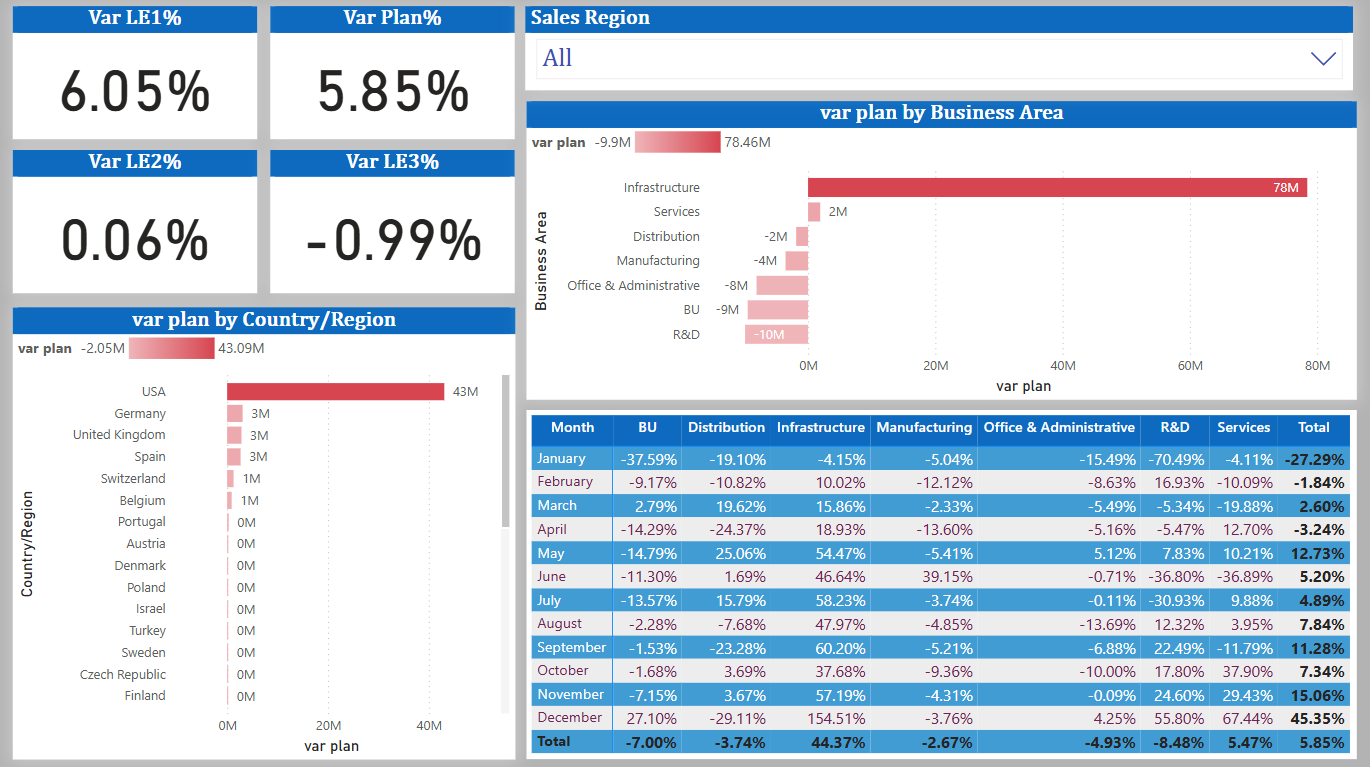

The page's visual inventory and layout, read from the dashboard file:
{"tool":"powerbi","page":{"name":"Variance Analysis","canvas":[1280,720],"ordinal":1},"visuals":[{"type":"card","title":"Var Plan%","fields":{"Values":["IT Area.var plan %"]},"box":[253.4,6,228,124.3],"z":0},{"type":"card","title":"Var LE1%","fields":{"Values":["IT Area.var LE 1 %"]},"box":[13.3,6,228,124.3],"z":1000},{"type":"card","title":"Var LE2%","fields":{"Values":["IT Area.var LE2 %"]},"box":[13.3,139.9,228,133.9],"z":2000},{"type":"card","title":"Var LE3%","fields":{"Values":["IT Area.var LE3 %"]},"box":[253.4,139.9,228,133.9],"z":3000},{"type":"barChart","fields":{"Category":["Country Region.Country/Region"],"Y":["IT Area.var plan"]},"box":[12.9,287.1,468.6,421.4],"z":4000},{"type":"barChart","fields":{"Y":["IT Area.var plan"],"Category":["Business Area.Business Area"]},"box":[491.4,94.3,774.3,278.6],"z":5000},{"type":"pivotTable","fields":{"Rows":["Date.Date.Variation.Date Hierarchy.Month"],"Columns":["Business Area.Business Area"],"Values":["IT Area.var plan %"]},"box":[491.4,382.9,774.3,325.7],"z":6000},{"type":"slicer","title":"Sales Region","fields":{"Values":["Country Region.Sales Region"]},"box":[491,6,772.1,78.4],"z":7000}]}

Visuals, with their boxes in screenshot pixels (x1, y1, x2, y2), scaled from the page's 1280x720 canvas onto the 1370x767 screenshot:
"Var Plan%" card: x1=271 y1=6 x2=515 y2=139
"Var LE1%" card: x1=14 y1=6 x2=258 y2=139
"Var LE2%" card: x1=14 y1=149 x2=258 y2=292
"Var LE3%" card: x1=271 y1=149 x2=515 y2=292
barChart - Country Region.Country/Region x IT Area.var plan: x1=14 y1=306 x2=515 y2=755
barChart - IT Area.var plan x Business Area.Business Area: x1=526 y1=100 x2=1355 y2=397
pivotTable - Date.Date.Variation.Date Hierarchy.Month x Business Area.Business Area: x1=526 y1=408 x2=1355 y2=755
"Sales Region" slicer: x1=526 y1=6 x2=1352 y2=90
